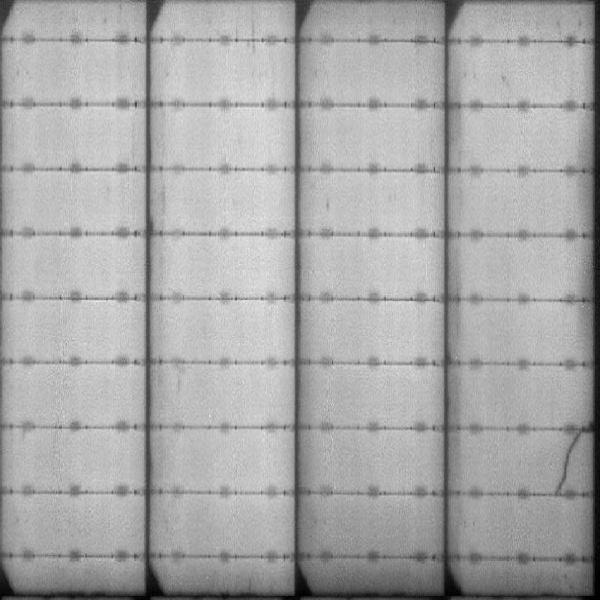scratch: (556, 434, 587, 492)
